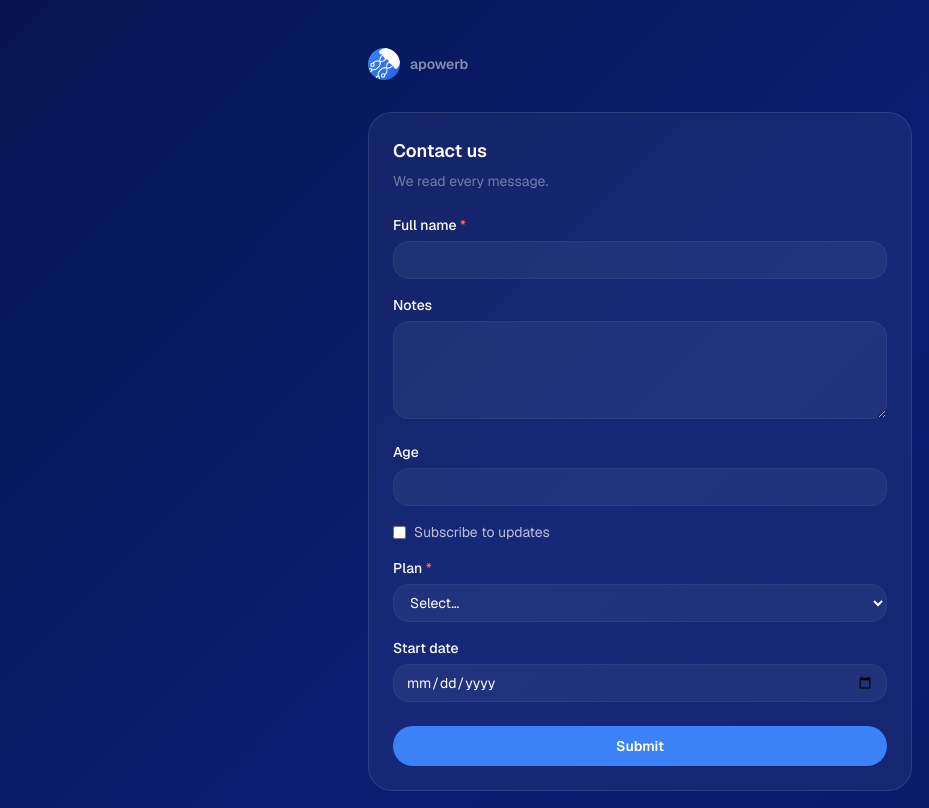
it: WorkflowFormView › submits coerced values and shows the confirmation
expect the heading "Contact us" is shown: met, box top-left (393, 139), bottom-right (487, 162)
Type "Jamie Doe" into the field labelled "Full name *". click: (640, 260)
box: top-left (393, 241), bottom-right (887, 279)
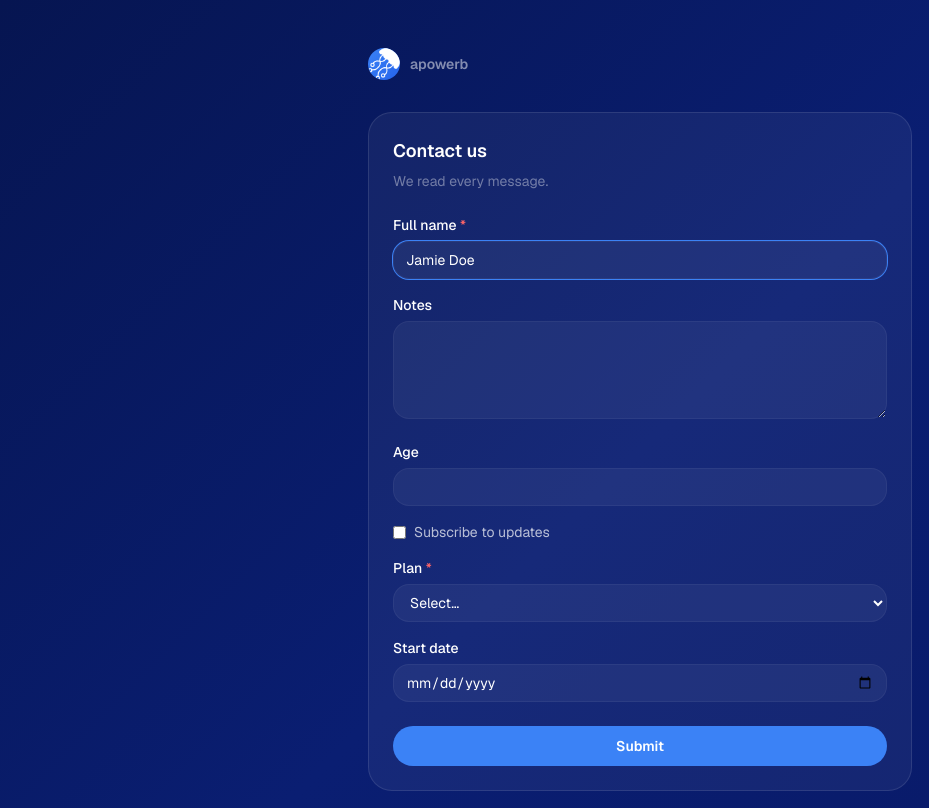
Select "pro" in the dropdown labelled "Plan *". click: (640, 603)
box: top-left (393, 584), bottom-right (887, 622)
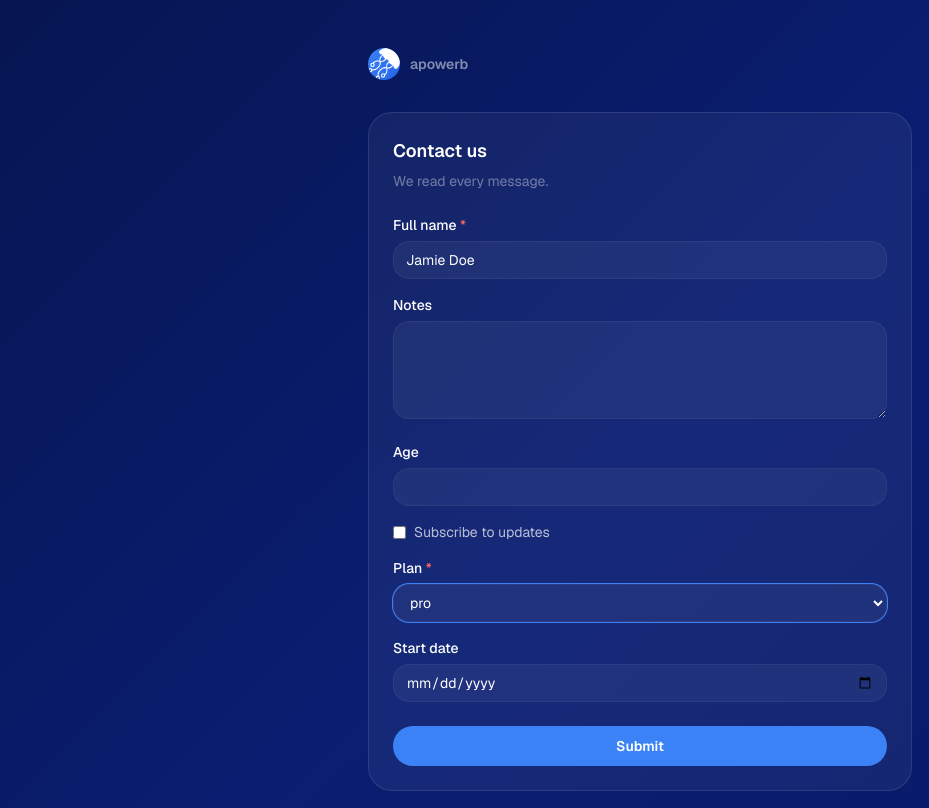
Click the checkbox labelled "Subscribe to updates". click: (400, 532)
box: top-left (393, 526), bottom-right (406, 538)
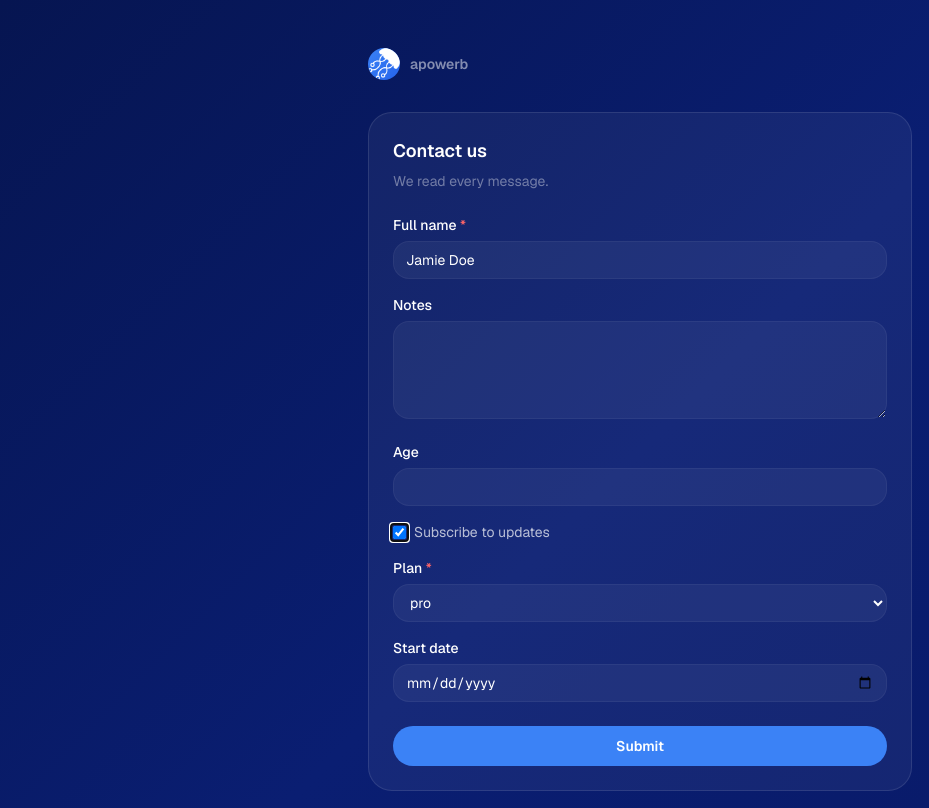
Click the button "Submit". click: (640, 746)
box: top-left (393, 726), bottom-right (887, 766)
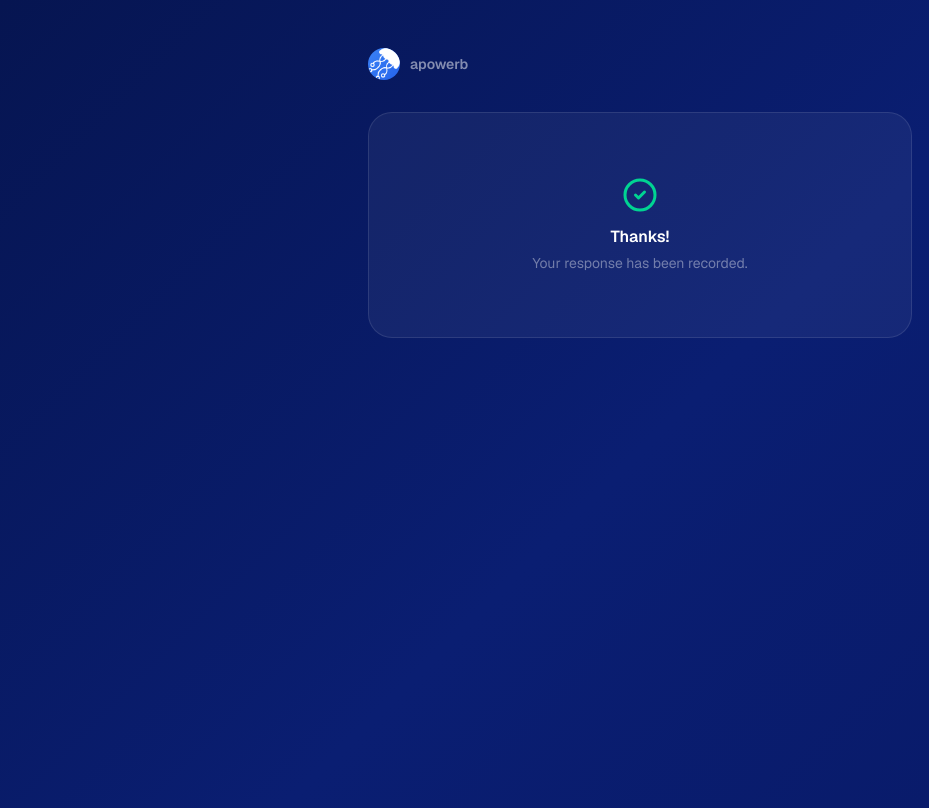
expect the text "Thanks!" is shown: met, box top-left (610, 226), bottom-right (670, 247)
